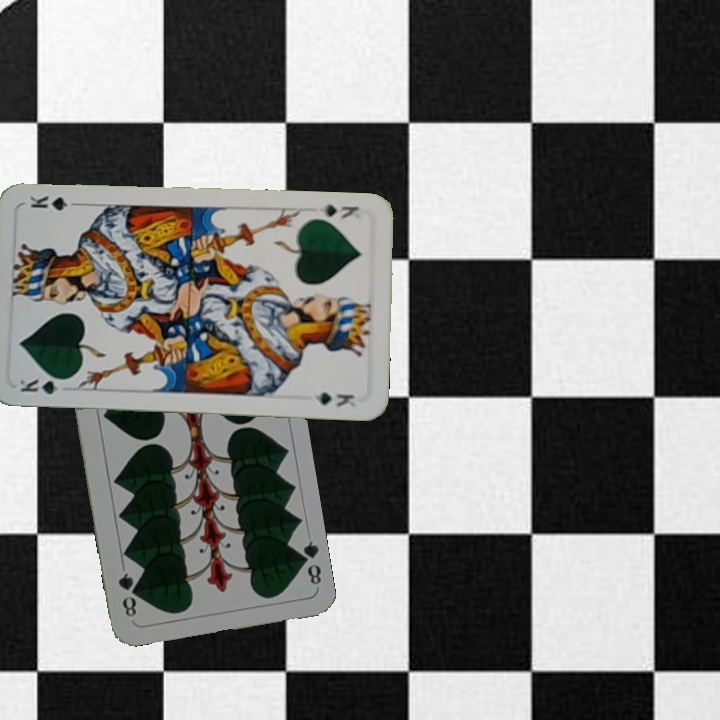G8: (293, 537, 324, 587)
GK: (15, 375, 73, 397), (316, 200, 362, 222)
